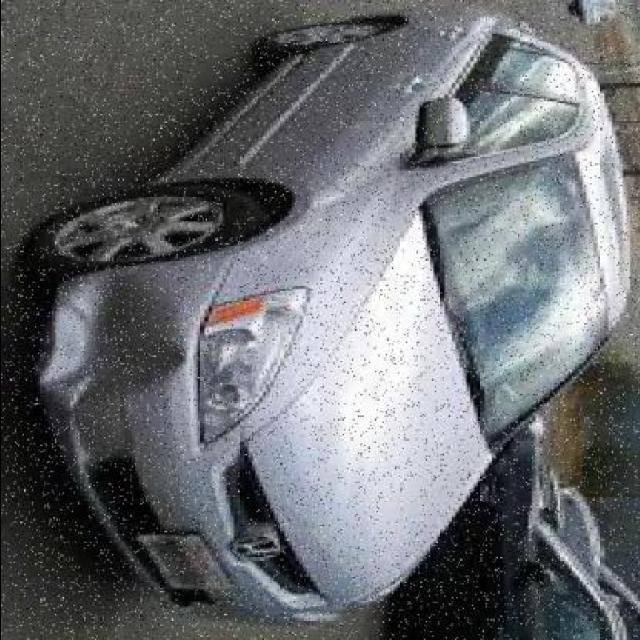front-bumper-dent: (40, 267, 233, 631)
